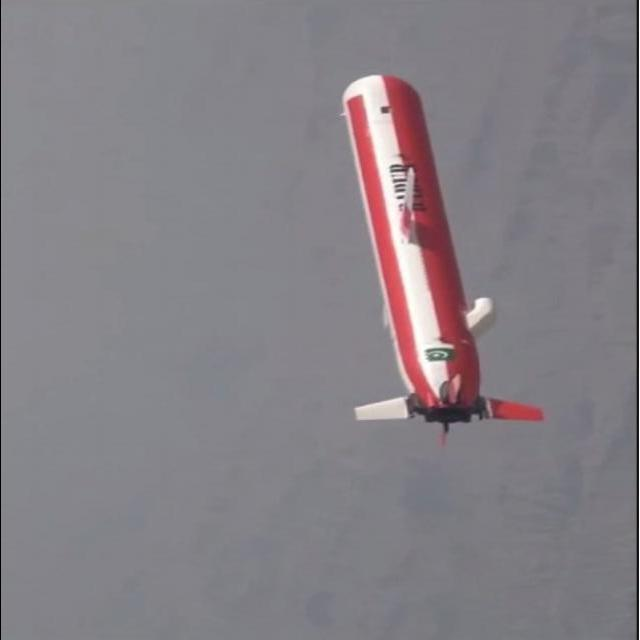missile: (326, 58, 555, 440)
